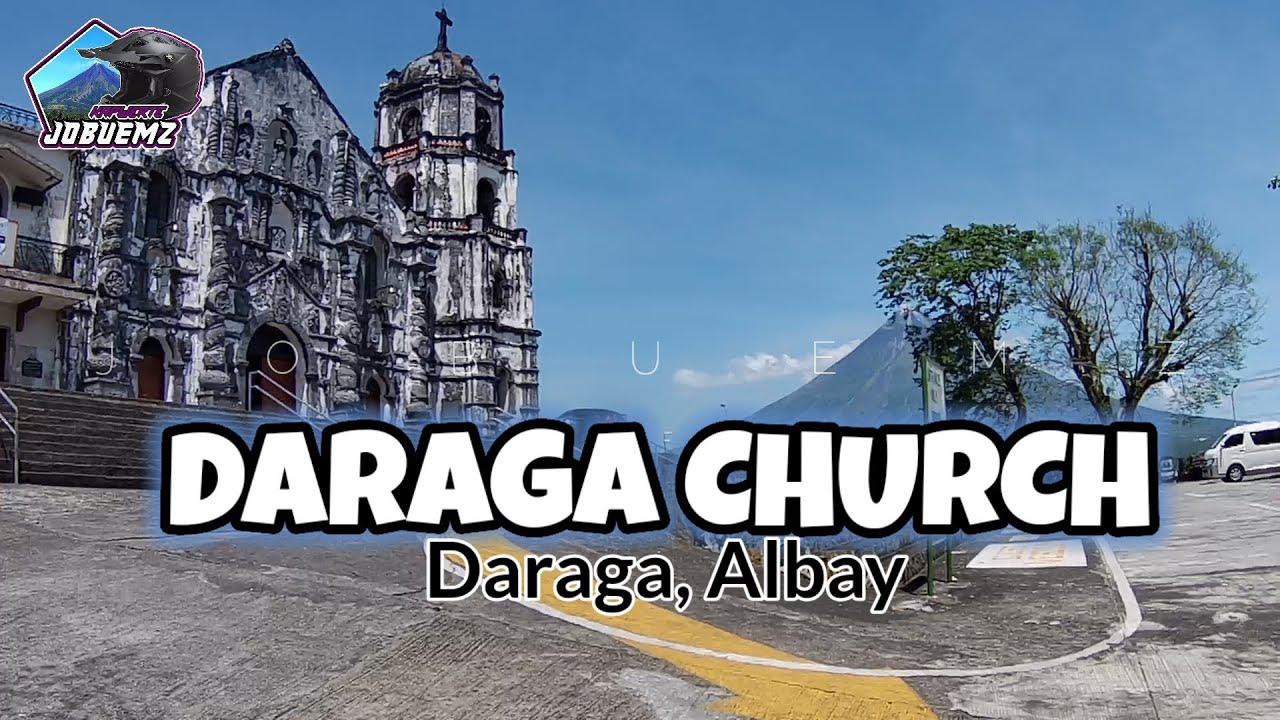daraga_church_daraga_albay: (71, 7, 546, 420)
